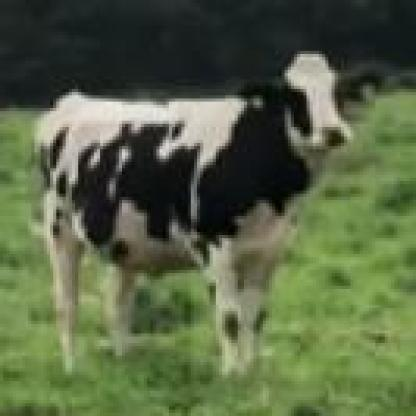cow: (36, 52, 383, 376)
